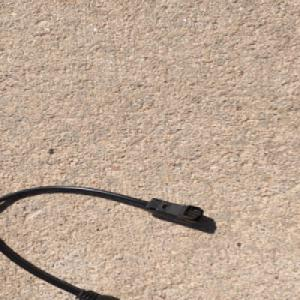Wire: (0, 184, 205, 300)
